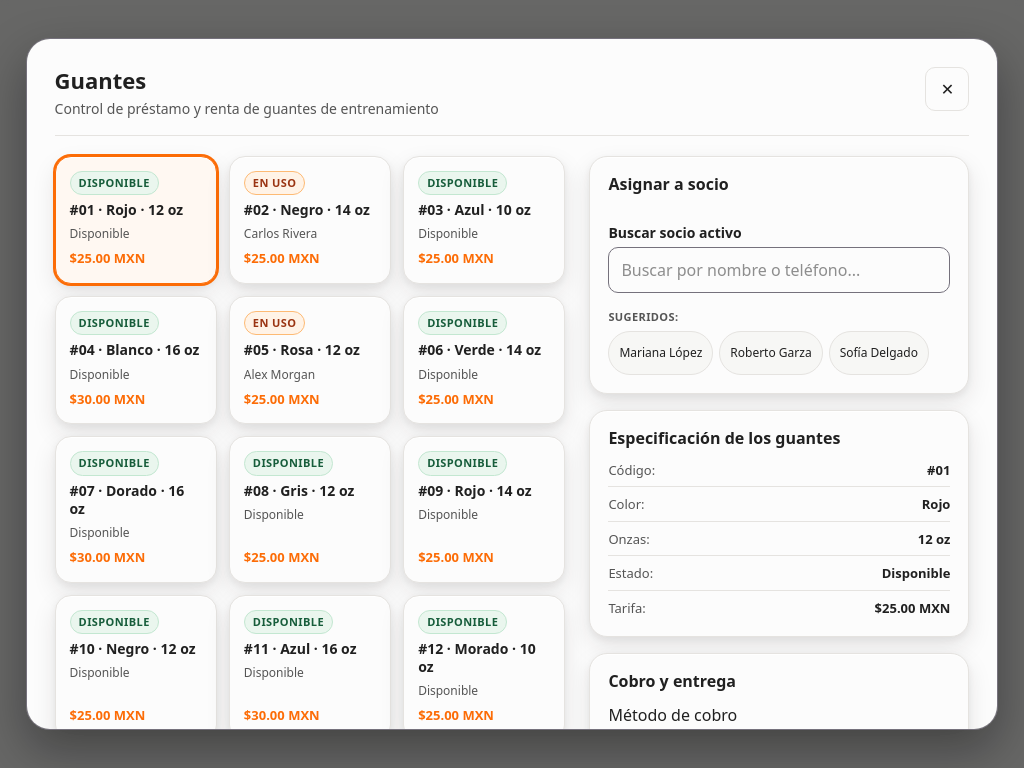
Scenario: GuantesModal › confirms rental and transitions glove to rented with assigned member
# Select available glove #03
Click the button "#03 · Azul · 10 oz". click: (484, 220)
box: [403,156,565,284]
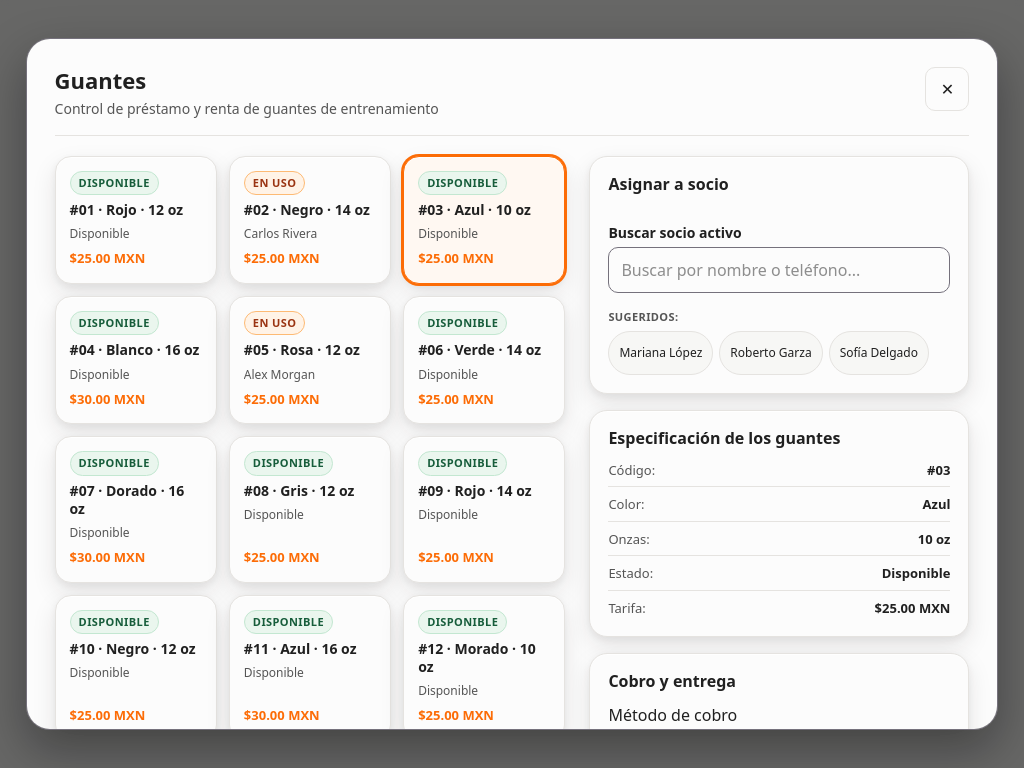
# Assign Mariana López via quick chip
Click the button "Mariana López". click: (661, 354)
box: [608,332,713,376]
(page scrolled)
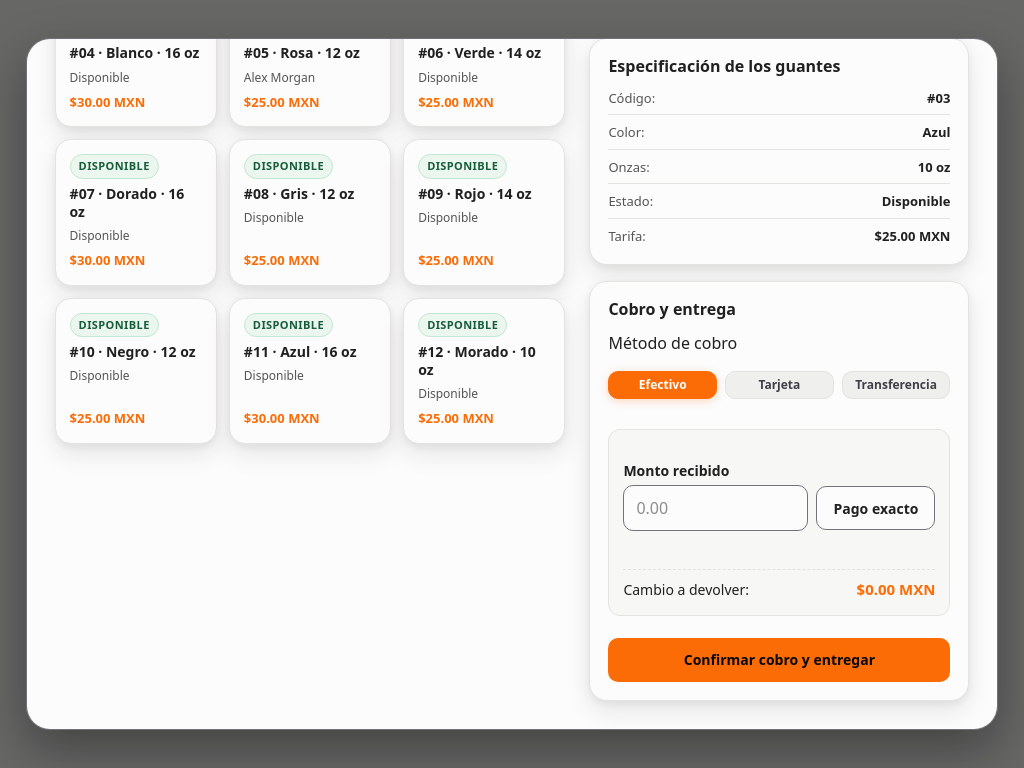
Check: the button "Confirmar cobro y entregar" is enabled
Click the button "Confirmar cobro y entregar". click: (779, 660)
box: [608,638,950,682]
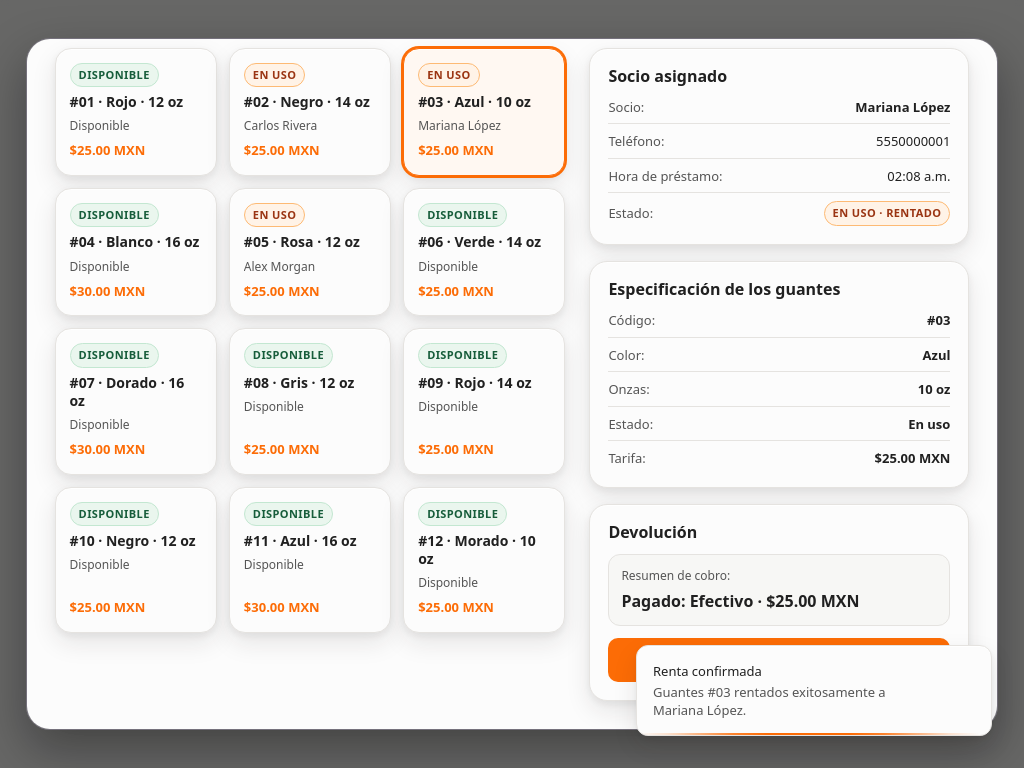
Check: the text "Renta confirmada" is shown, box [653,662,762,680]
Check: the text "Guantes #03 rentados exitosamente a Mariana López." is shown, box [653,683,923,719]
Check: the button "#03 · Azul · 10 oz" shows "Mariana López", box [403,48,565,176]
